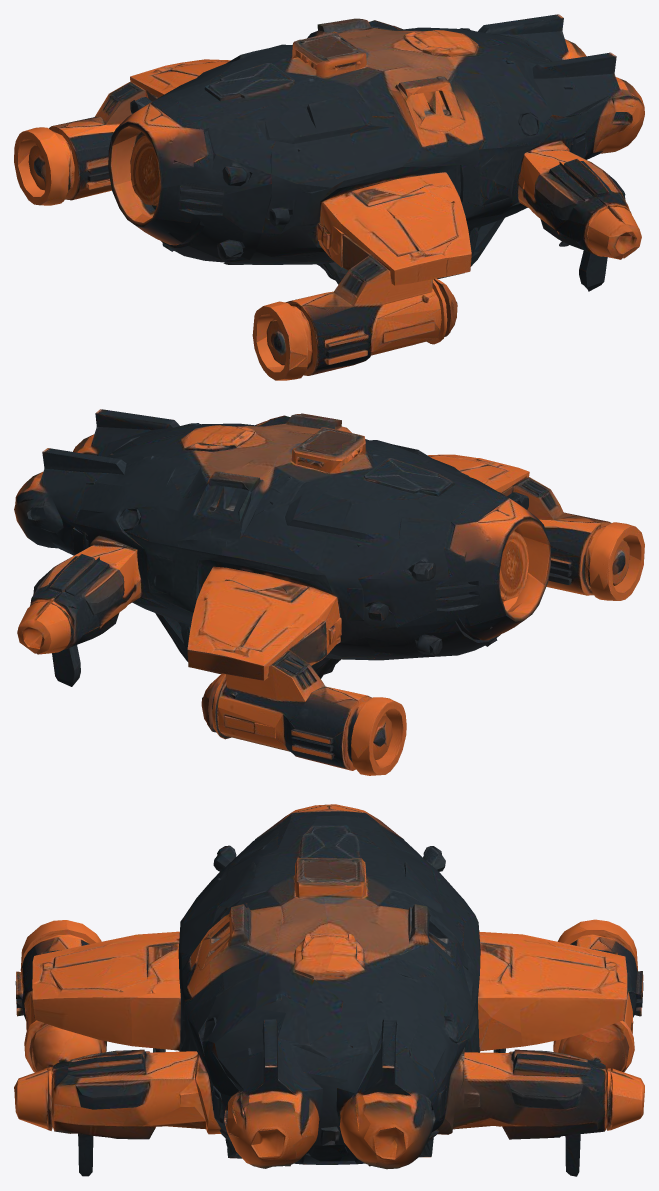
The model's file is d_missile.glb.
3 renders of one model, top to bottom at view 1: azimuth 30°, elevation 25°; view 2: azimuth 150°, elevation 25°; view 3: azimuth 270°, elevation 25°, orthographic. The views are drawn at different scales.
Size of the model in its own units: 1.86 by 0.8349 by 1.9.
1 material, 1 textured.
